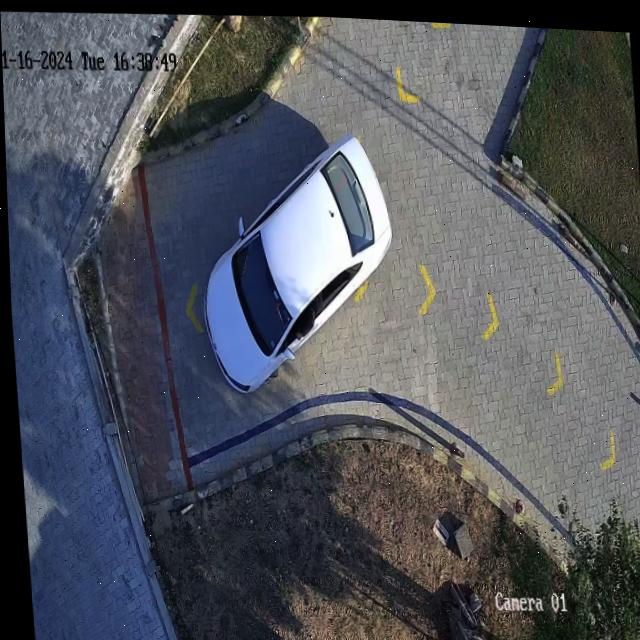car: (201, 131, 390, 390)
